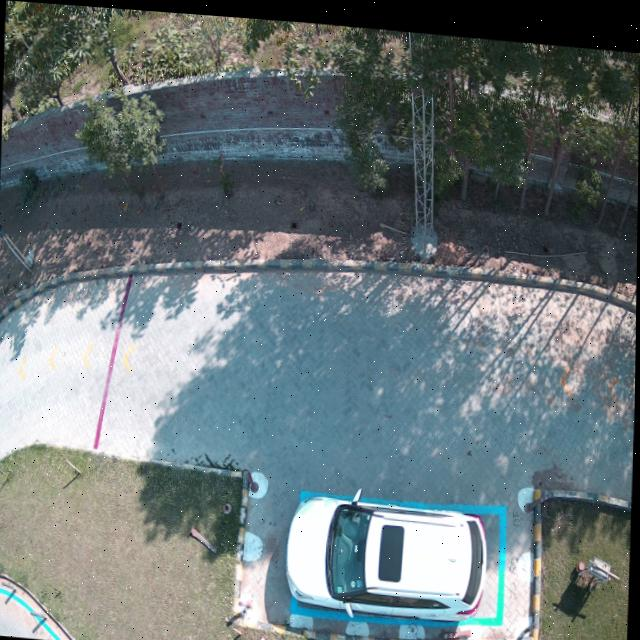car: (287, 490, 488, 613)
